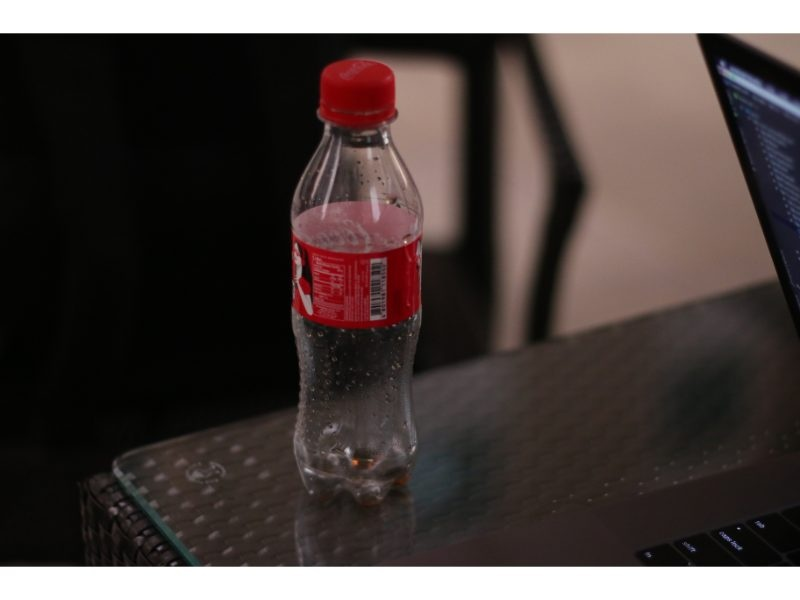PET #1: (287, 53, 423, 506)
